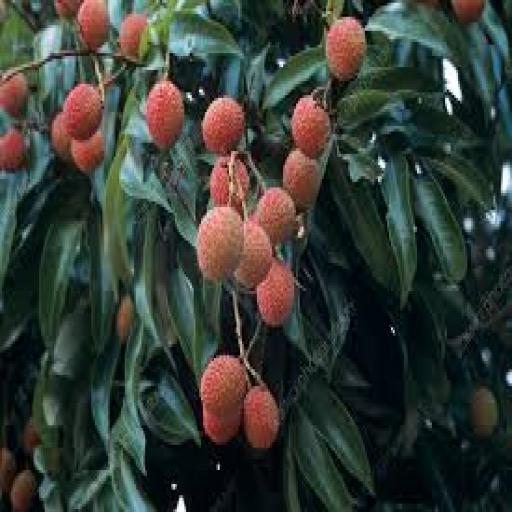lychee: (198, 208, 243, 279), (200, 356, 245, 416), (235, 219, 273, 288), (326, 17, 366, 81), (291, 96, 331, 159), (148, 82, 184, 151), (257, 261, 294, 327), (202, 98, 245, 153), (256, 188, 296, 246), (283, 149, 320, 209), (244, 387, 279, 450), (64, 84, 102, 139), (209, 157, 249, 209), (77, 0, 109, 50), (470, 387, 498, 436), (203, 409, 242, 444), (71, 132, 104, 173), (0, 73, 29, 117), (120, 14, 147, 58), (0, 129, 26, 173), (10, 471, 37, 511), (51, 112, 72, 162), (116, 294, 134, 344), (451, 0, 485, 25), (0, 448, 16, 495), (23, 417, 40, 453), (54, 0, 83, 19), (419, 0, 439, 8)
